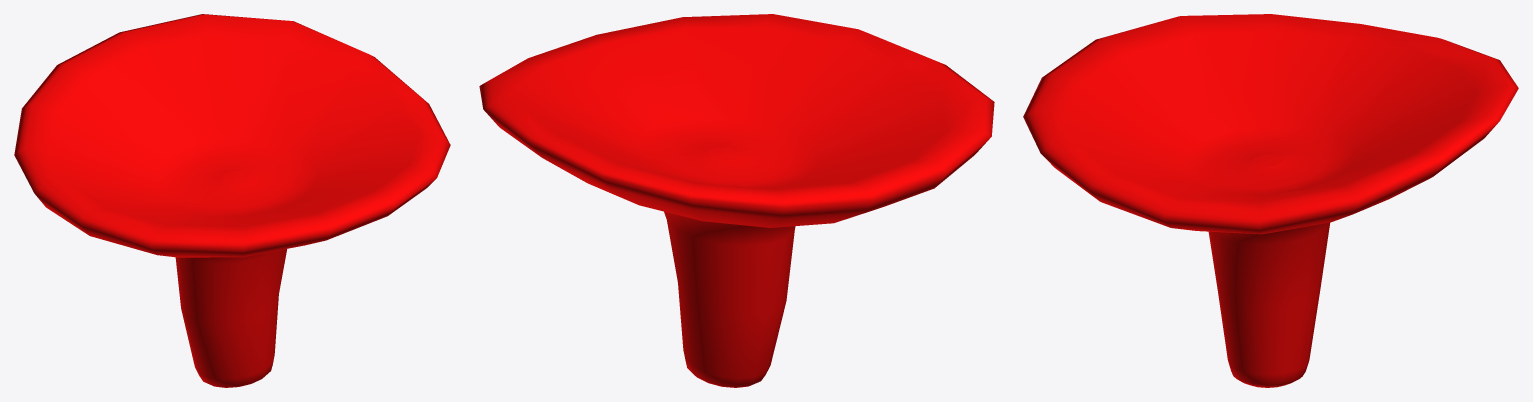
The model's file is SM_Plante_plate_03.fbx.
3 renders of one model, left to right at view 1: azimuth 30°, elevation 25°; view 2: azimuth 150°, elevation 25°; view 3: azimuth 270°, elevation 25°, orthographic. The views are drawn at different scales.
Parts seen in each view (by area): view 1: Plante_plate_03_low; view 2: Plante_plate_03_low; view 3: Plante_plate_03_low.
Boxes of the visible parts, bbox=[...] form: Plante_plate_03_low: bbox=[14, 14, 450, 387]; Plante_plate_03_low: bbox=[479, 14, 994, 387]; Plante_plate_03_low: bbox=[1023, 14, 1518, 387].
Size of the model in its own units: 48.71 by 33.05 by 48.71.
